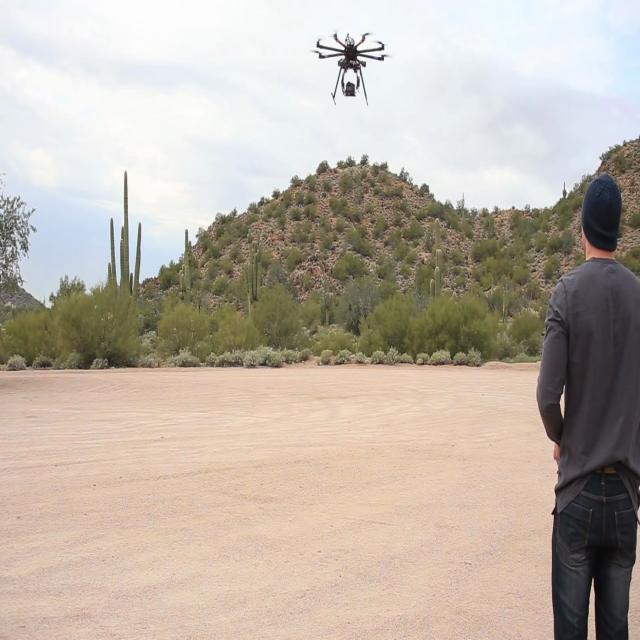drone: (306, 0, 394, 116)
